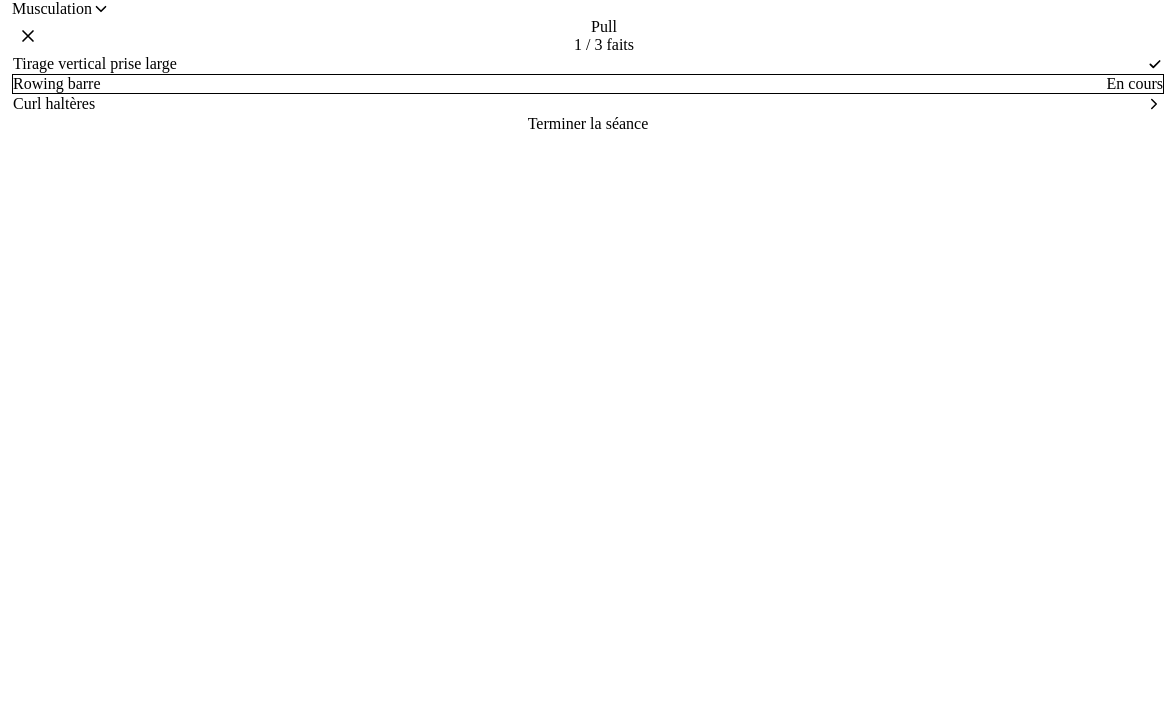
Test: Séance — liste › Terminer with no network (weak signal): "Pas de connexion", everything kept
The width and height of the screenshot is (1176, 720).
Click the button "Terminer la séance" at (588, 124), box [12,114,1164,134]
(page scrolled)
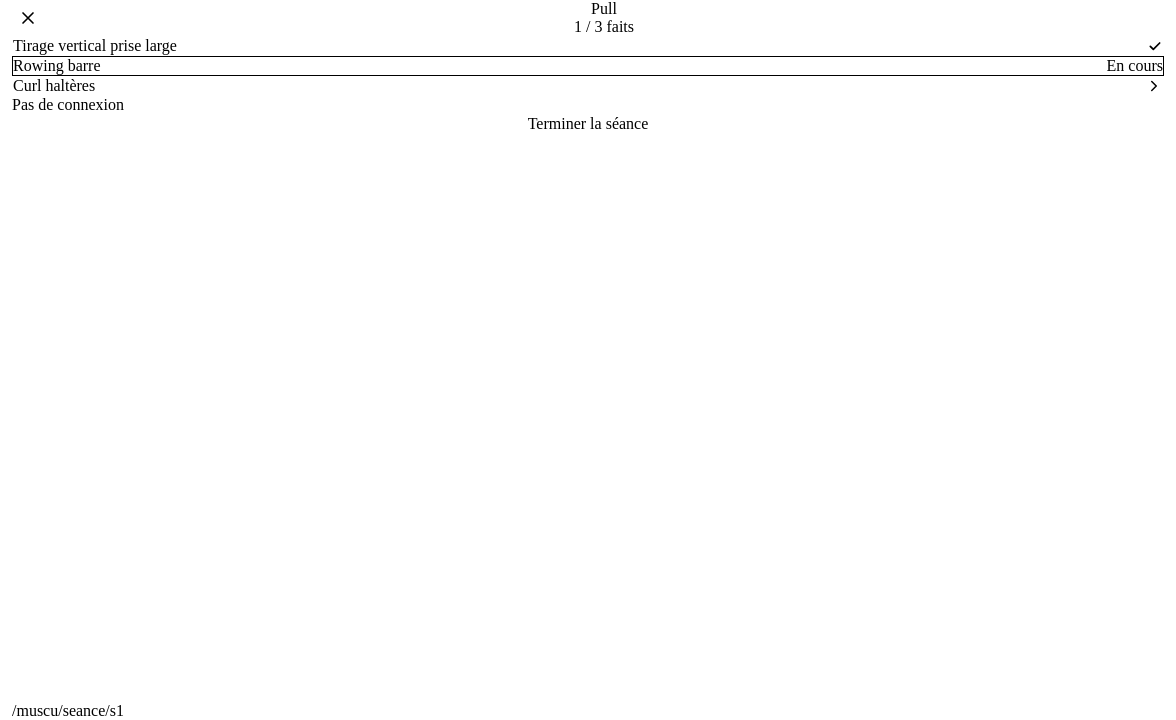
expect the text with test id "where" reads "/muscu/seance/s1": met, box [12,702,124,719]
expect the message reads "Pas de connexion": met, box [12,96,124,113]
